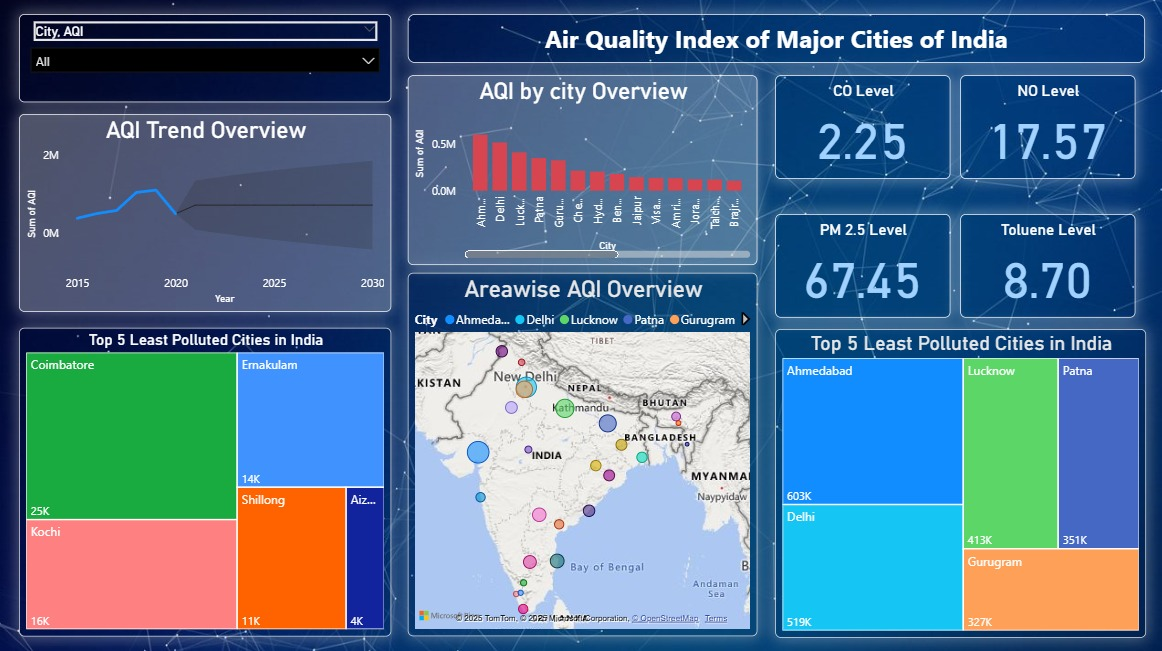

The page's visual inventory and layout, read from the dashboard file:
{"tool":"powerbi","page":{"name":"Page 1","canvas":[1280,720],"ordinal":0},"visuals":[{"type":"lineChart","title":"AQI Trend Overview","fields":{"Category":["city_day.Date.Variation.Date Hierarchy.Year","city_day.Date.Variation.Date Hierarchy.Quarter","city_day.Date.Variation.Date Hierarchy.Month","city_day.Date.Variation.Date Hierarchy.Day"],"Y":["Sum(city_day.AQI)"]},"box":[21.7,126.7,408.3,216.7],"z":0},{"type":"map","title":"Areawise AQI Overview","fields":{"Category":["city_day.City"],"Size":["Sum(city_day.AQI)"],"Series":["city_day.City"]},"box":[448.3,300,383.3,398.3],"z":1000},{"type":"slicer","fields":{"Values":["city_day.City","city_day.AQI"]},"box":[21.7,16.7,408.3,96.7],"z":2000},{"type":"treemap","title":"Top 5 Least Polluted Cities in India","fields":{"Group":["city_day.City"],"Values":["Sum(city_day.AQI)"]},"box":[21.7,360,408.3,338.3],"z":3000},{"type":"treemap","title":"Top 5 Least Polluted Cities in India","fields":{"Group":["city_day.City"],"Values":["Sum(city_day.AQI)"]},"box":[850,361.7,406.7,338.3],"z":4000},{"type":"textbox","box":[448.3,16.7,808.3,53.3],"z":4001},{"type":"card","title":"PM 2.5 Level","fields":{"Values":["Avg(city_day.PM2.5)"]},"box":[850,235,191.7,113.3],"z":4002},{"type":"card","title":"Toluene Level","fields":{"Values":["Avg(city_day.Toluene)"]},"box":[1053.3,235,191.7,113.3],"z":4003},{"type":"card","title":"CO Level","fields":{"Values":["Avg(city_day.CO)"]},"box":[850,83.3,191.7,113.3],"z":4004},{"type":"card","title":"NO Level","fields":{"Values":["Avg(city_day.NO)"]},"box":[1053.3,83.3,191.7,113.3],"z":4005},{"type":"columnChart","title":"AQI by city Overview","fields":{"Y":["Sum(city_day.AQI)"],"Category":["city_day.City"]},"box":[448.3,83.3,383.3,208.3],"z":4006}]}

Visuals, with their boxes in screenshot pixels (x1, y1, x2, y2), scaled from the page's 1280x720 canvas onto the 1162x651 screenshot:
"AQI Trend Overview" lineChart: bbox=(20, 115, 390, 310)
"Areawise AQI Overview" map: bbox=(407, 271, 755, 631)
slicer - city_day.City x city_day.AQI: bbox=(20, 15, 390, 103)
"Top 5 Least Polluted Cities in India" treemap: bbox=(20, 326, 390, 631)
"Top 5 Least Polluted Cities in India" treemap: bbox=(772, 327, 1141, 633)
textbox: bbox=(407, 15, 1141, 63)
"PM 2.5 Level" card: bbox=(772, 212, 946, 315)
"Toluene Level" card: bbox=(956, 212, 1130, 315)
"CO Level" card: bbox=(772, 75, 946, 178)
"NO Level" card: bbox=(956, 75, 1130, 178)
"AQI by city Overview" columnChart: bbox=(407, 75, 755, 264)
